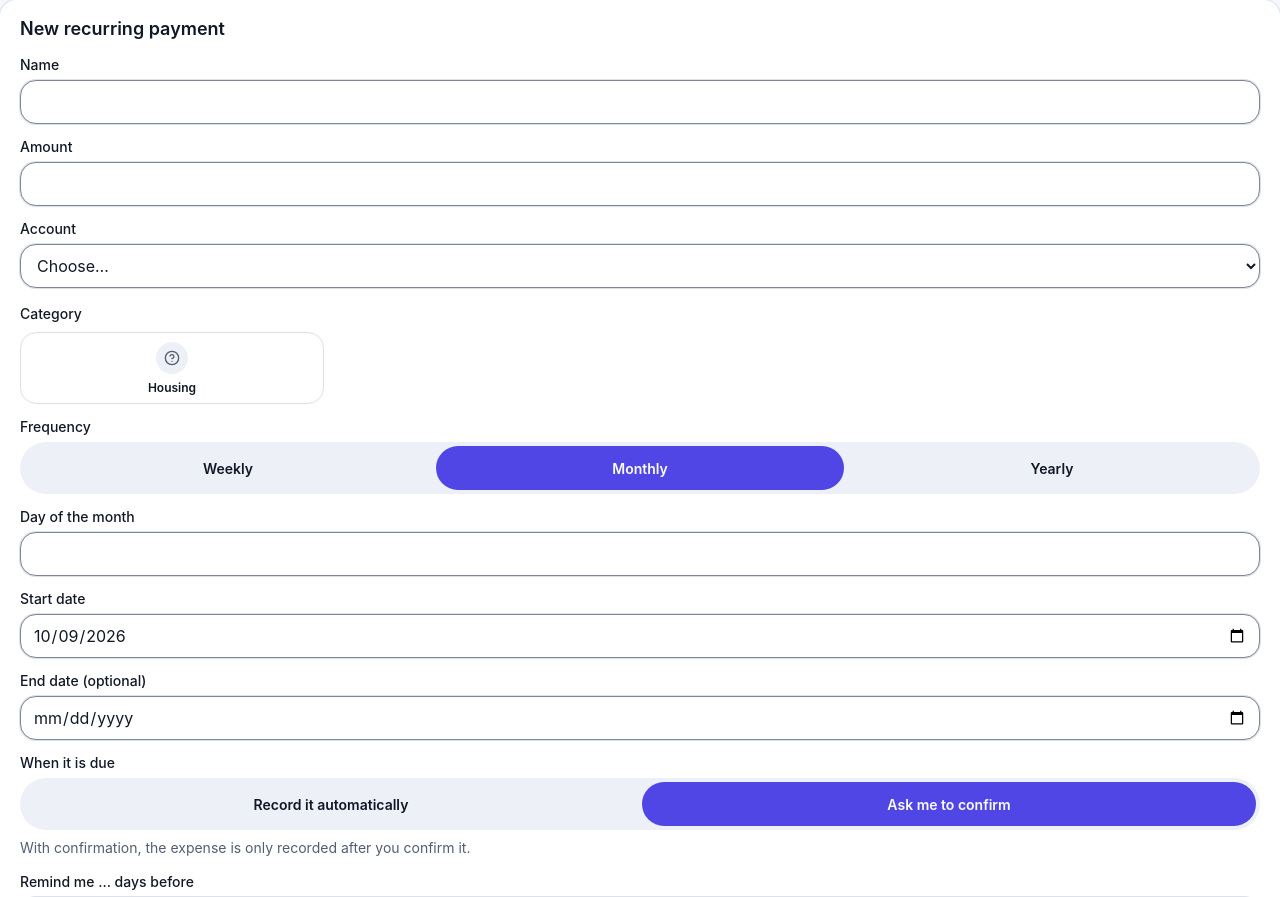
Scenario: RecurringPaymentForm › offers exactly weekly, monthly and yearly, and the day fields follow the choice (AC-03)
The image size is (1280, 897).
Expected: the radio button labelled "Monthly" is checked, [436,446,844,490]
Expected: the field labelled "Day of the month" is shown, [20,532,1260,576]
What coordinates should you click on to do the following:
click the radio button labelled "Weekly"
I would click on:
 (228, 468)
Its box is [203,460,253,476].
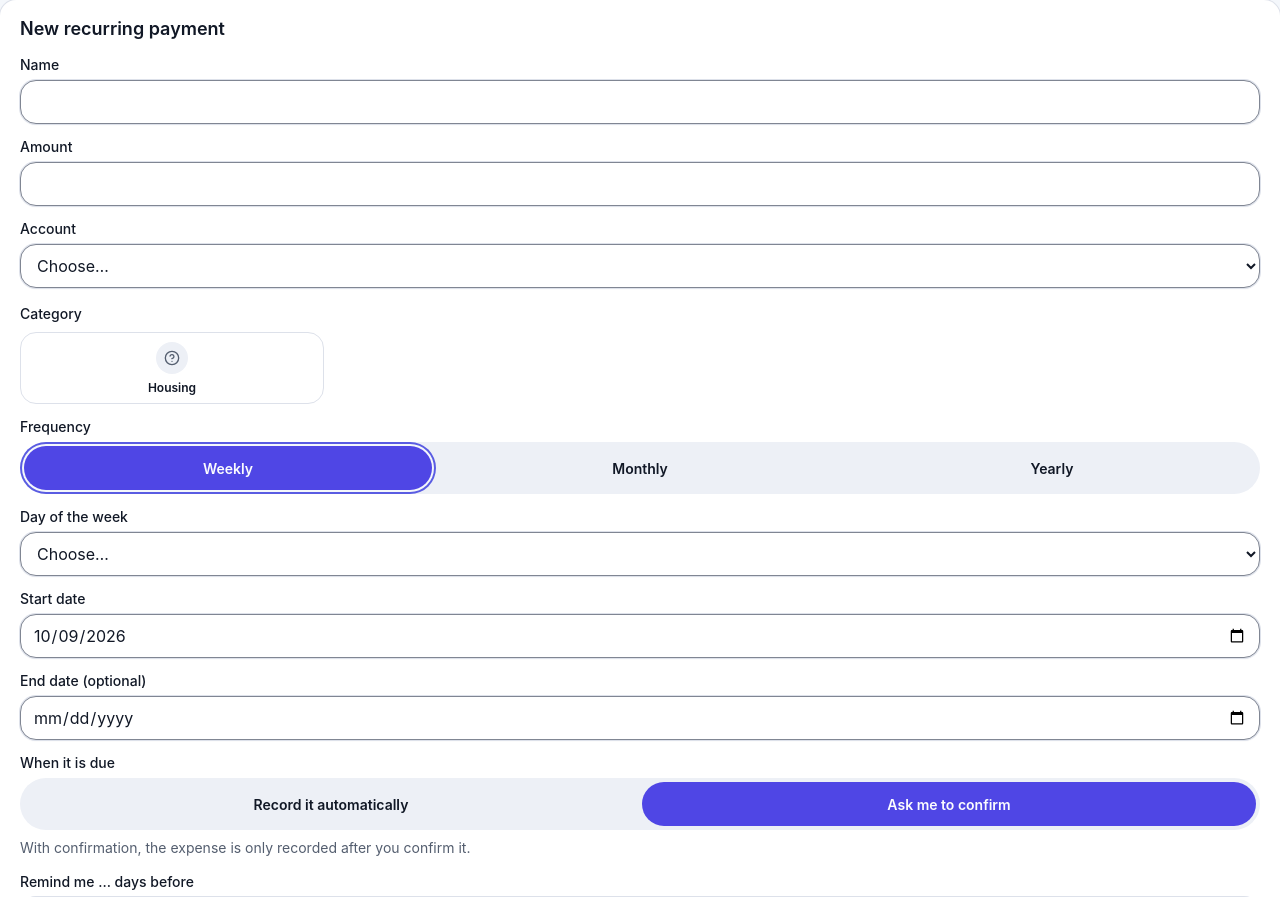
Expected: the dropdown labelled "Day of the week" is shown, [20,532,1260,576]
Expected: the label labelled "Day of the month" is gone
What coordinates should you click on to do the following:
click the radio button labelled "Yearly"
I would click on:
 (1052, 468)
Its box is [1031,460,1074,476].
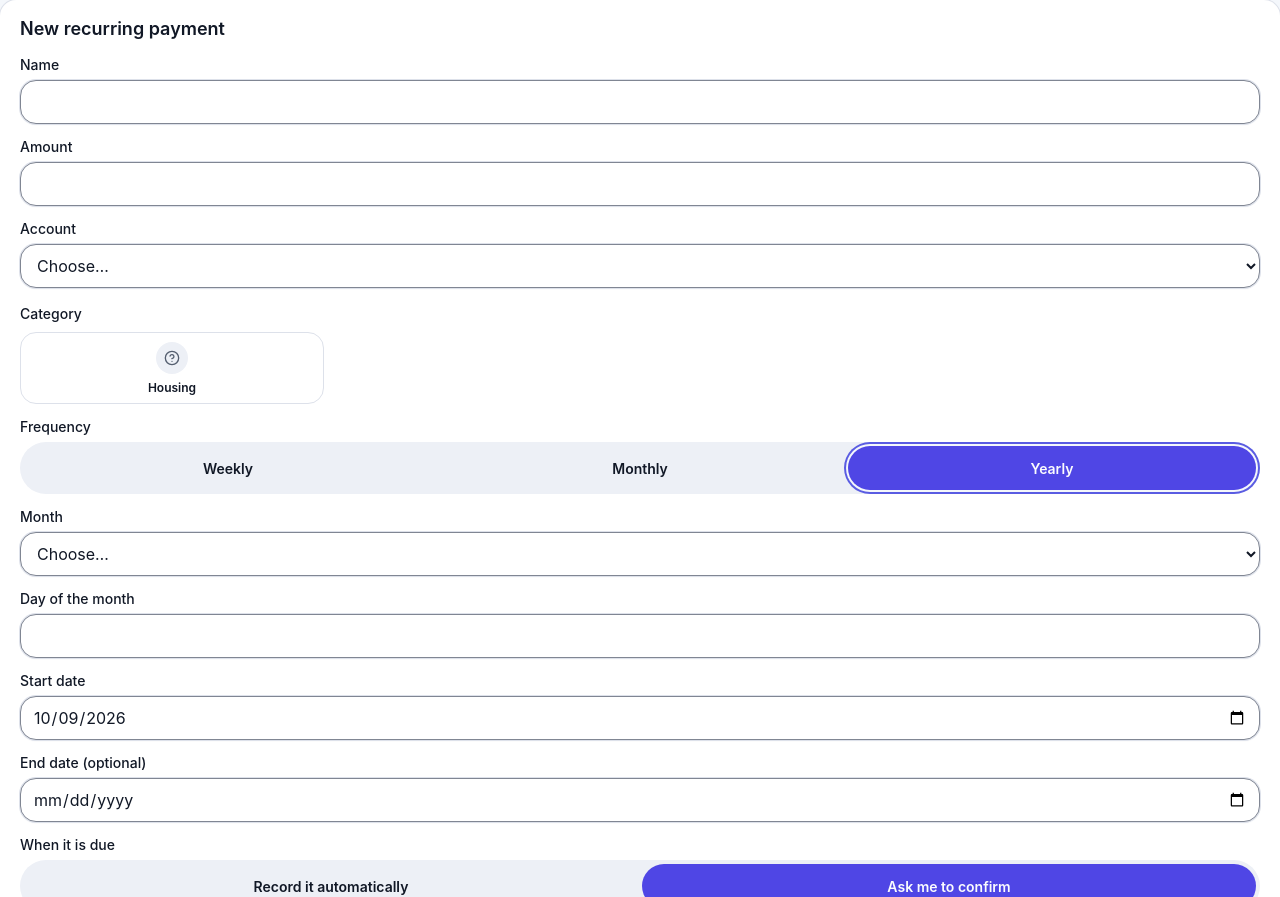
Expected: the dropdown labelled "Month" is shown, [20,532,1260,576]
Expected: the field labelled "Day of the month" is shown, [20,614,1260,658]
Expected: the label labelled "Day of the week" is gone
